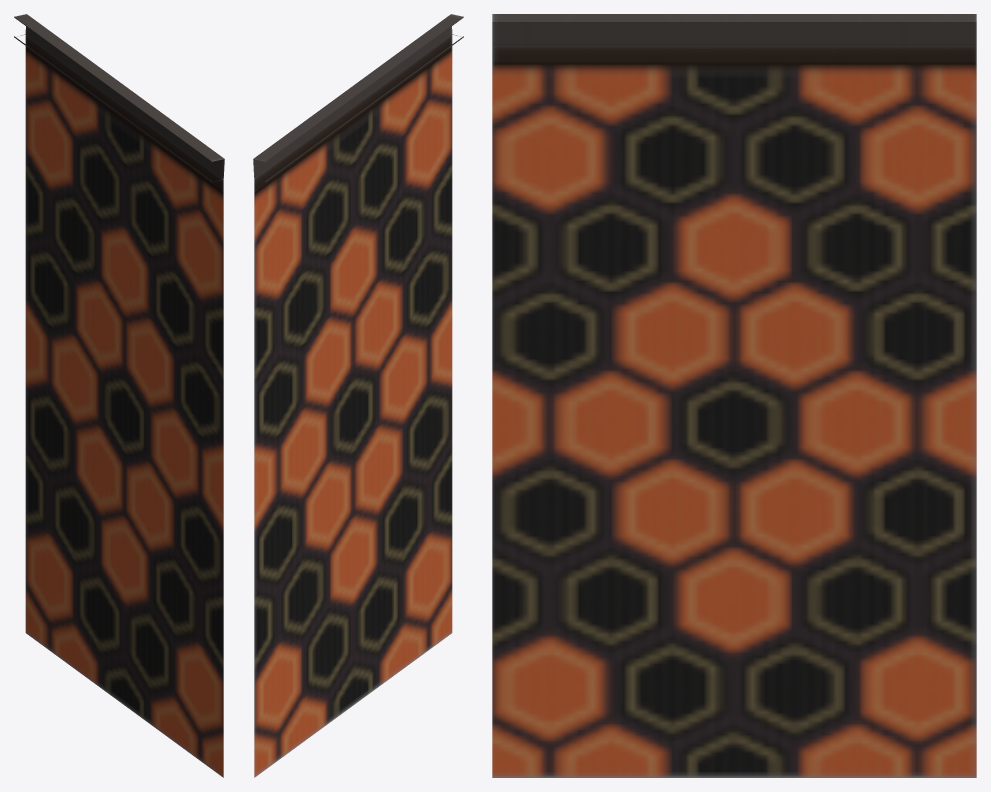
Rendered from firstWall.glb.
3 renders of one model, left to right at view 1: azimuth 30°, elevation 25°; view 2: azimuth 150°, elevation 25°; view 3: azimuth 270°, elevation 25°, orthographic. The views are drawn at different scales.
Parts seen in each view (by area): view 1: Cube; view 2: Cube; view 3: Cube.
Boxes of the visible parts, x1,y1,x2,y2 form: Cube: [14, 14, 224, 777]; Cube: [253, 14, 463, 777]; Cube: [492, 14, 976, 777].
Bounding box in the file's own units: 0.0442 × 2.07 × 1.2.
Materials: 1 (1 with a texture image).
